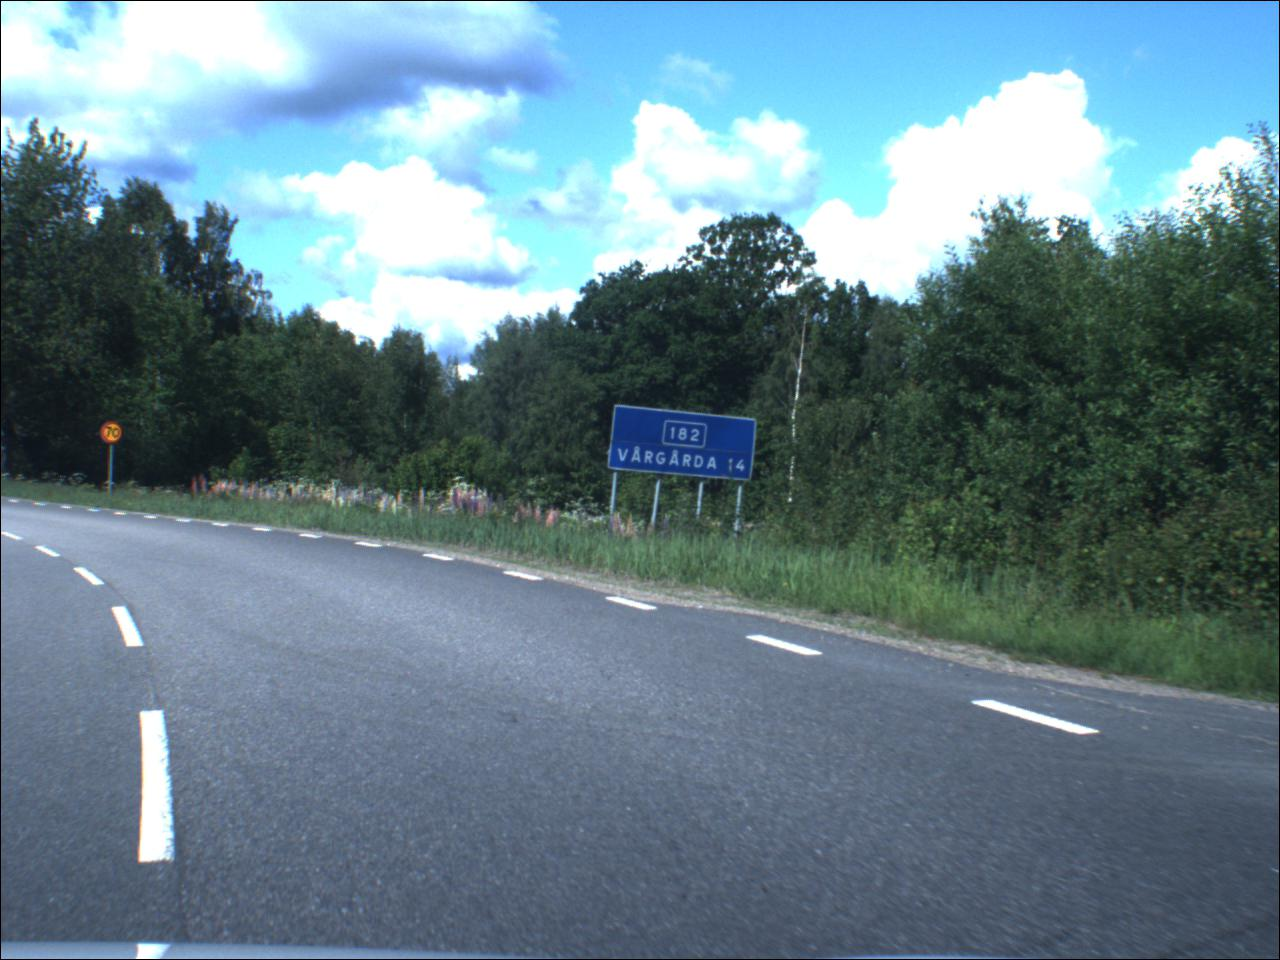70_SIGN: (103, 423, 127, 447)
